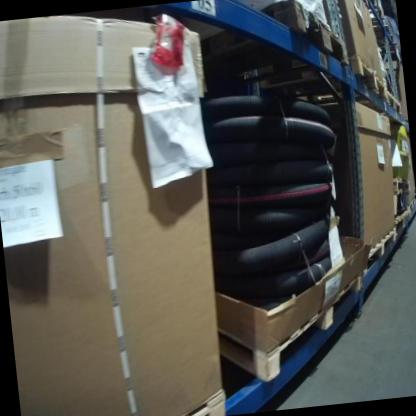pallet: (214, 266, 376, 385), (259, 0, 349, 72), (349, 55, 391, 106), (357, 223, 400, 270), (171, 395, 226, 416), (391, 206, 415, 233), (387, 84, 406, 117), (390, 174, 414, 194)
